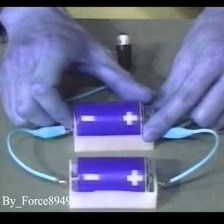battery: (70, 152, 155, 208), (65, 98, 150, 146)
